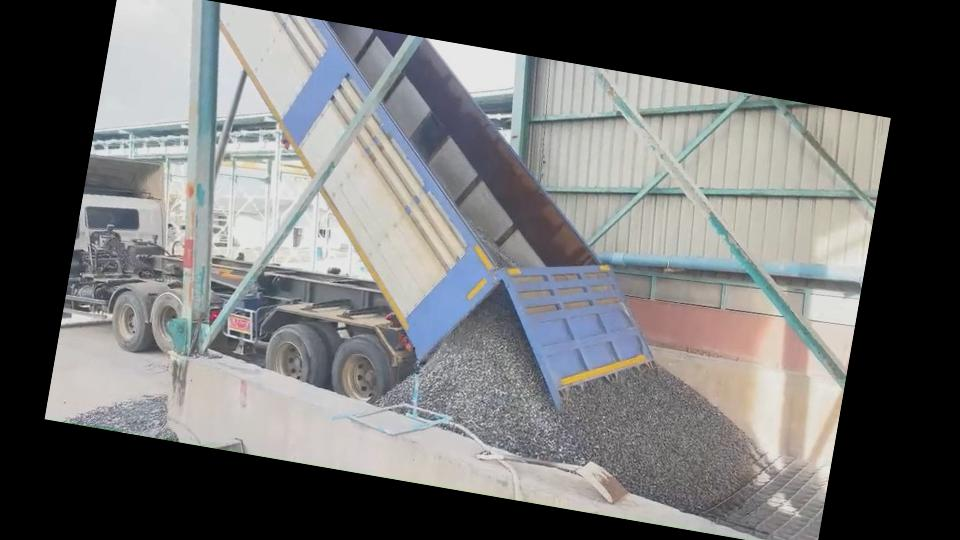gravel: (420, 288, 760, 513), (66, 395, 176, 440), (379, 377, 412, 406)
